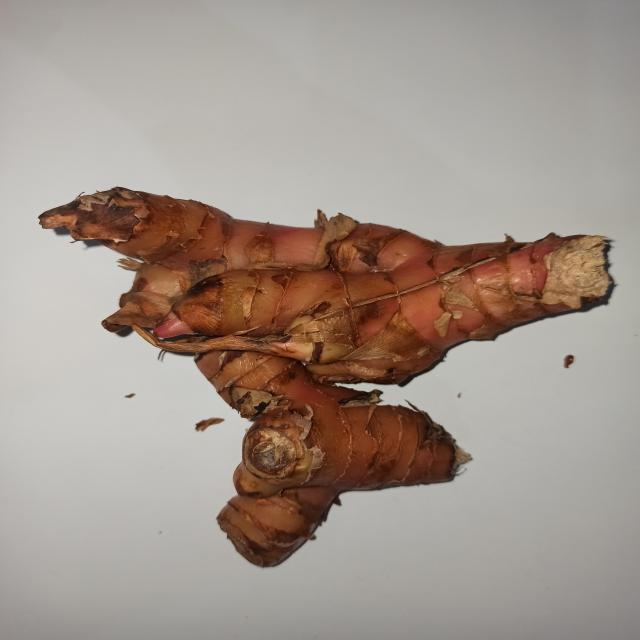ginger: (63, 170, 602, 519)
